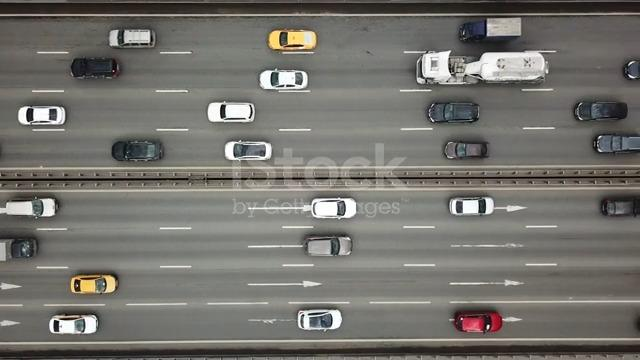Cars: (464, 51, 550, 85), (112, 139, 164, 162), (1, 198, 59, 218), (428, 102, 480, 124), (574, 101, 628, 122), (454, 311, 503, 334), (71, 57, 120, 80), (207, 101, 256, 124), (268, 29, 318, 51), (49, 313, 99, 335), (303, 235, 353, 257), (260, 69, 309, 91), (311, 197, 357, 220), (225, 140, 273, 162), (18, 105, 67, 126), (71, 274, 119, 295), (593, 133, 640, 154), (449, 196, 495, 217), (108, 29, 156, 49), (444, 141, 488, 160), (623, 60, 640, 81)
